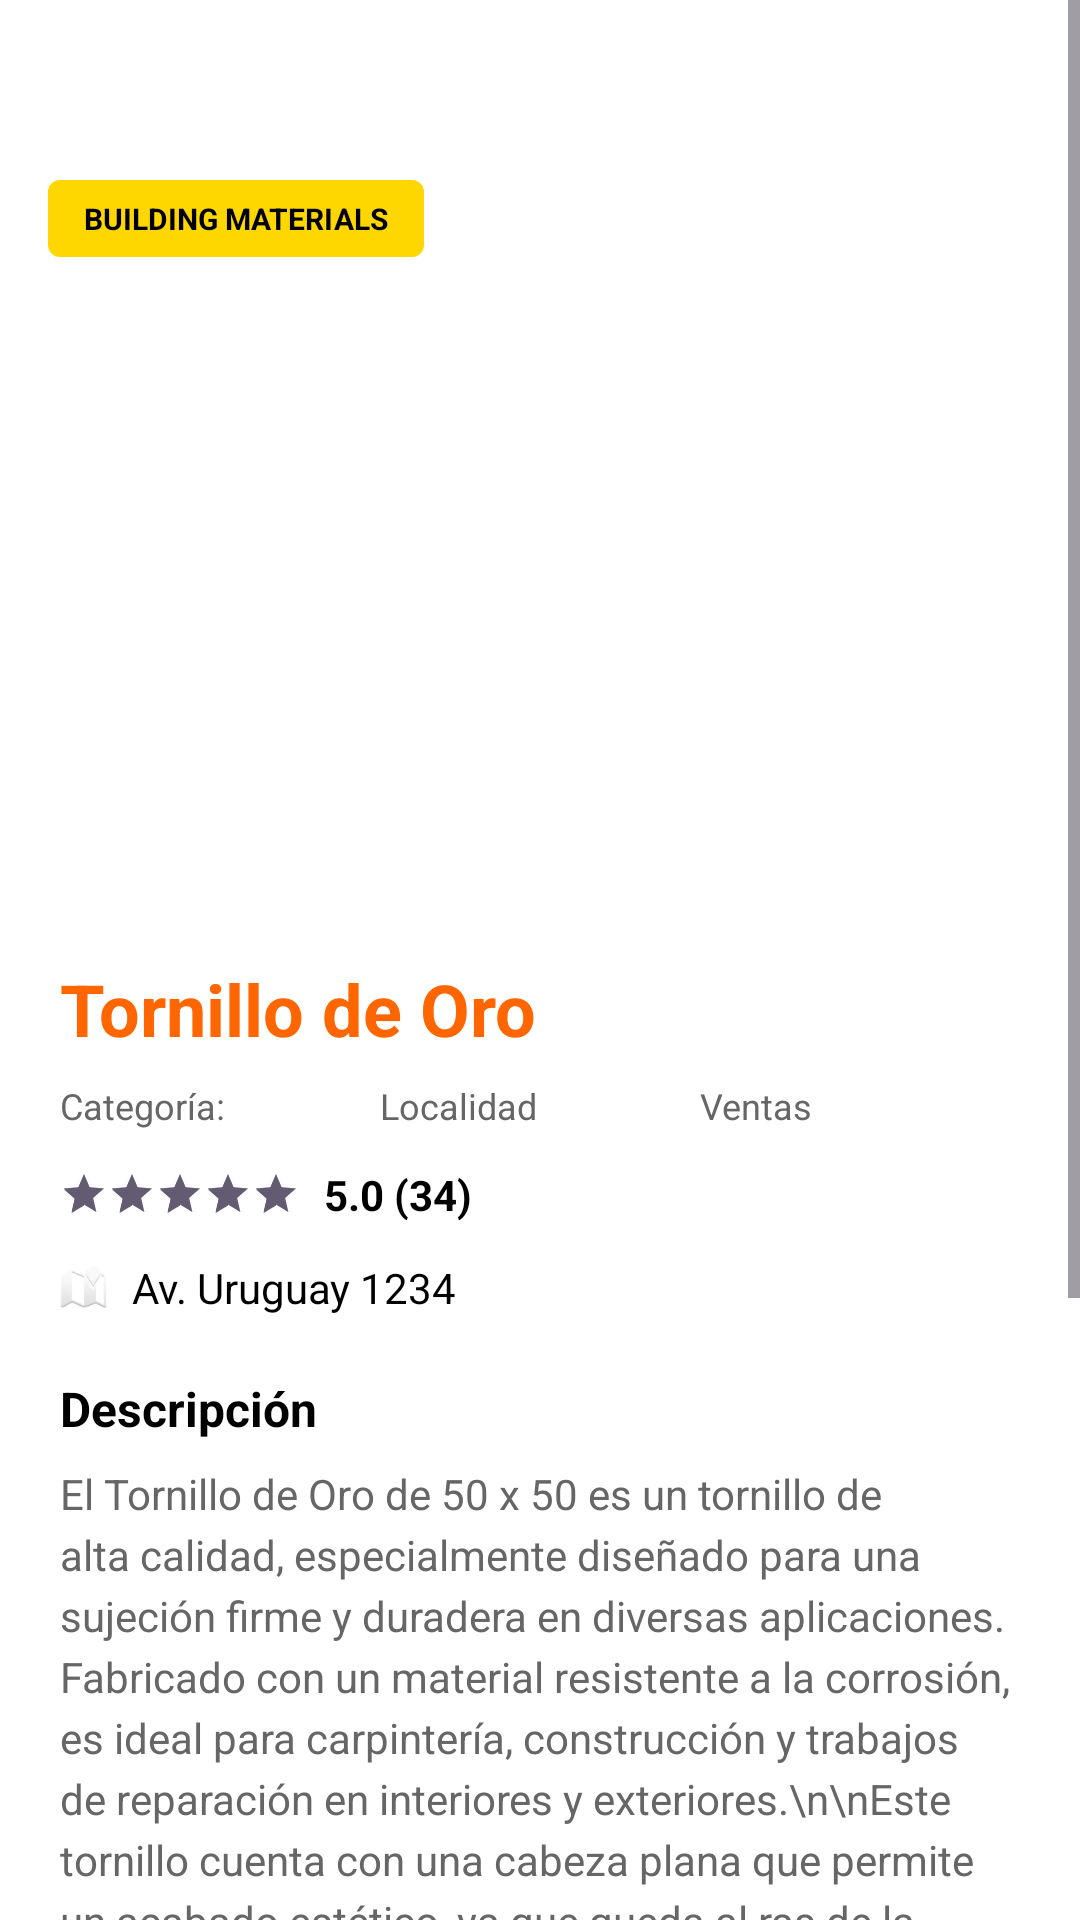

Point at icon controls on the screen. Image size 1080 x 1920, points as (x,y).
Ubicación: (83,1289)
